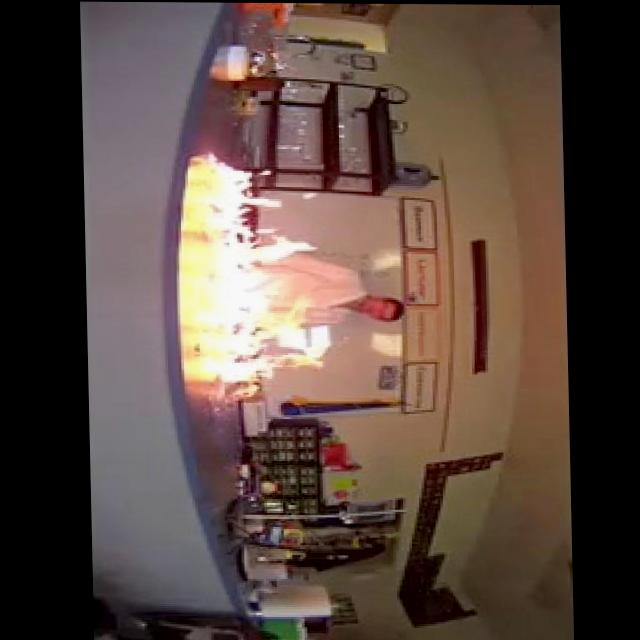Fire: (202, 152, 332, 405)
